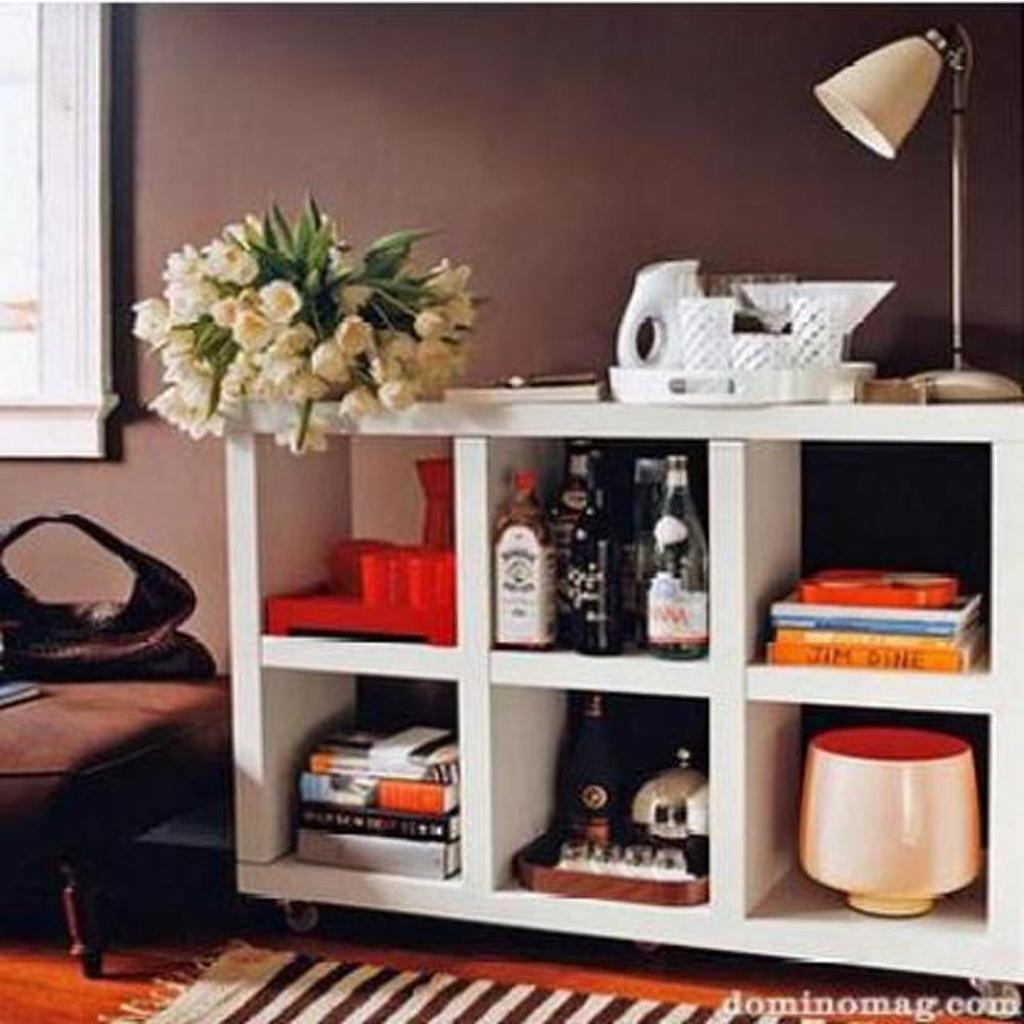lamp: (219, 377, 1022, 1019)
